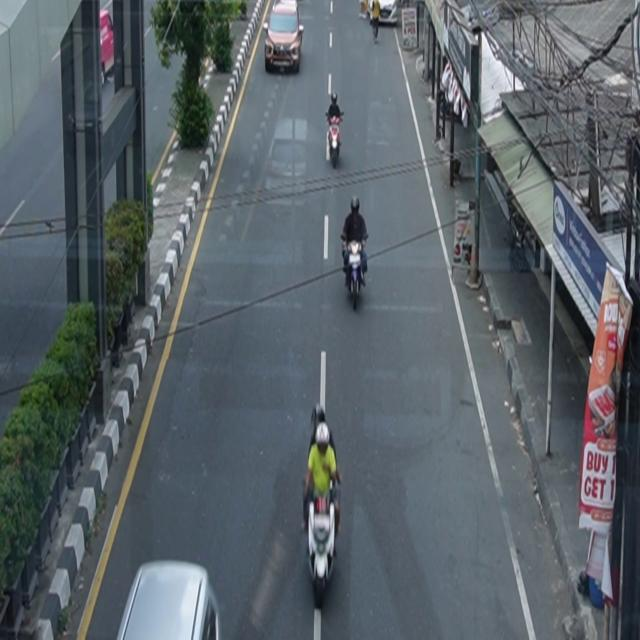car: (117, 560, 222, 640), (263, 1, 305, 74)
